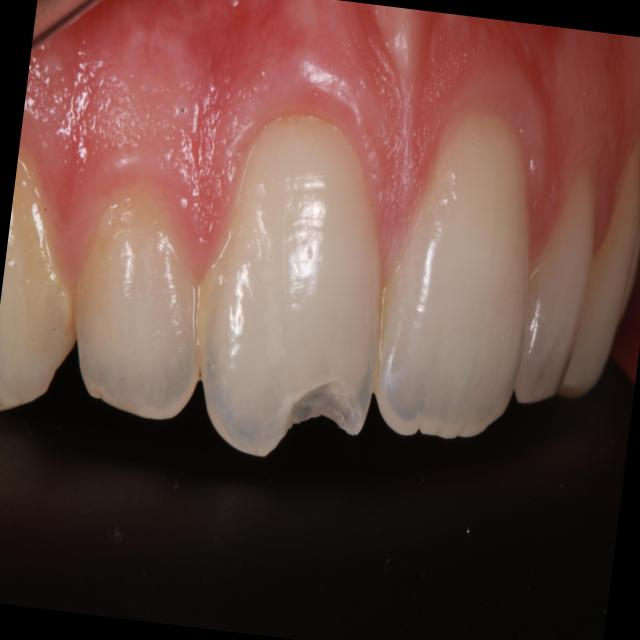Crack: (279, 380, 364, 441)
Tooth: (197, 113, 381, 458), (373, 118, 529, 439), (74, 190, 199, 420), (557, 129, 640, 397), (514, 162, 597, 404), (0, 156, 76, 411)
